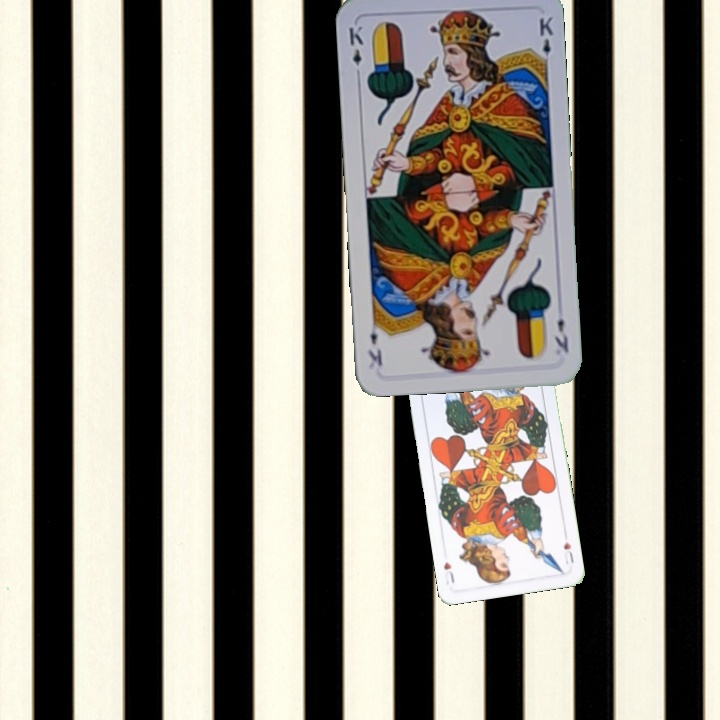EK: (345, 21, 365, 81), (550, 314, 571, 355)
HU: (560, 530, 576, 567)
